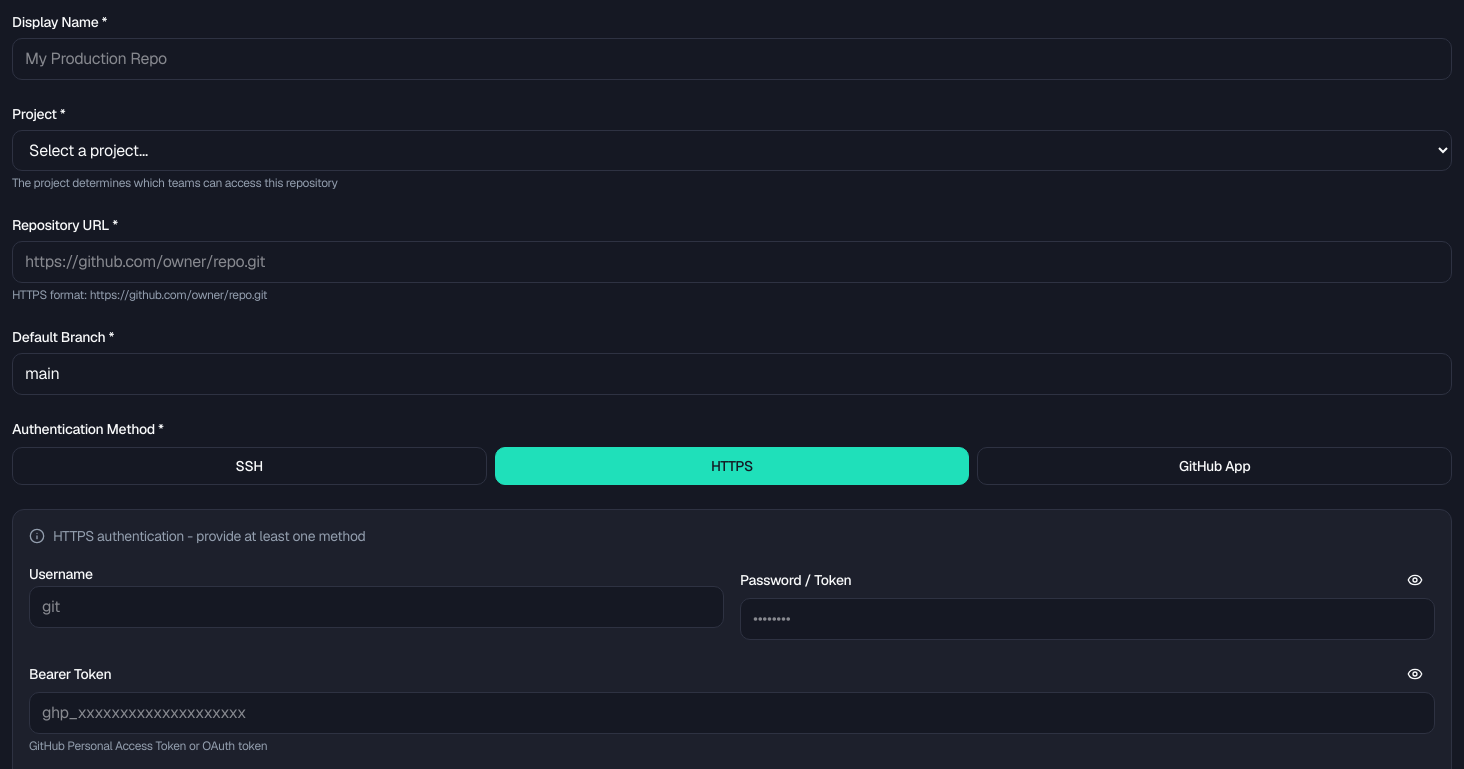
RepositoryForm › authentication type switching › switches to GitHub App authentication
The image size is (1464, 769).
Click the button "GitHub App" at (1215, 466), box [977,447,1452,485]
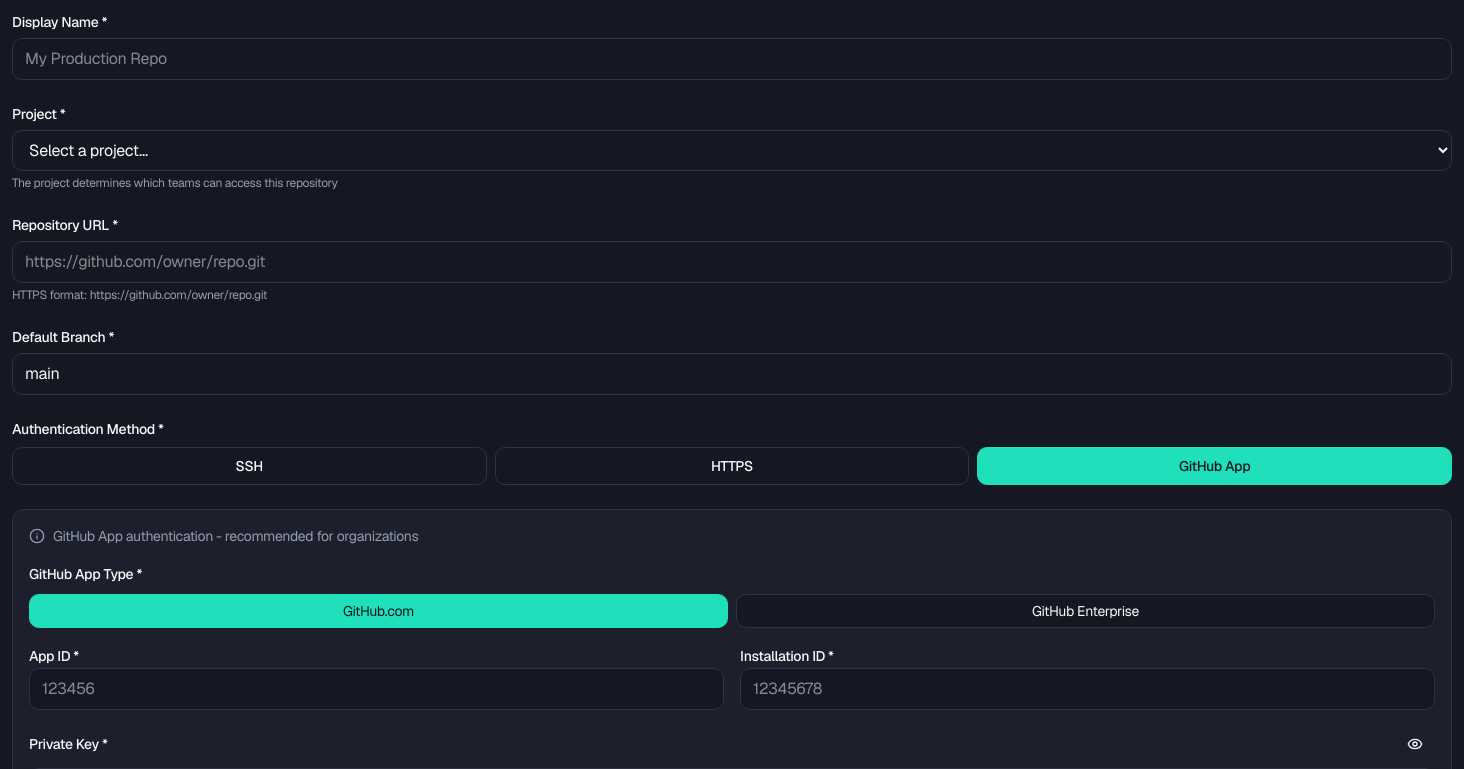
Result: the text "GitHub App Type *" is shown at [29,565,142,583]
